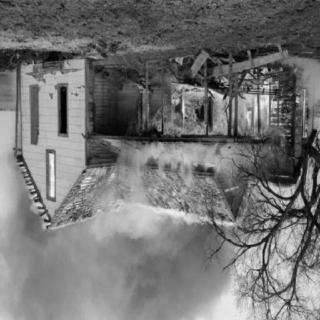Fire: (148, 69, 304, 211), (14, 156, 122, 240), (120, 199, 253, 223)
Smoke: (33, 245, 211, 312)
